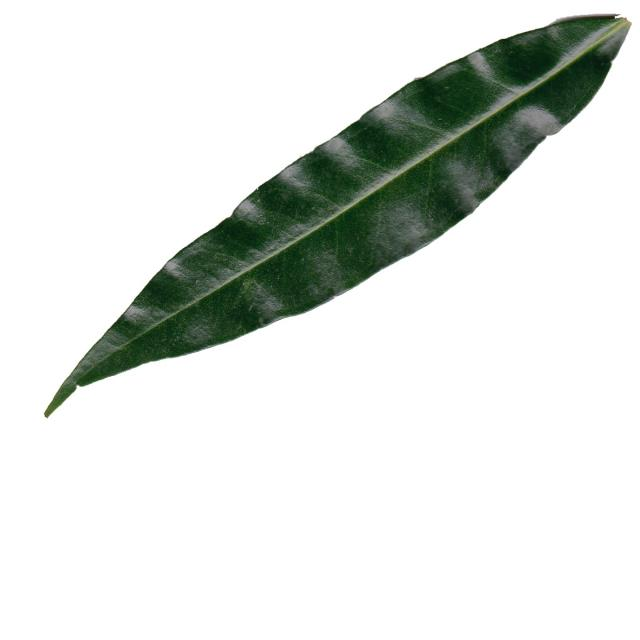Medicinal-Rose Apple: (42, 11, 626, 416)
